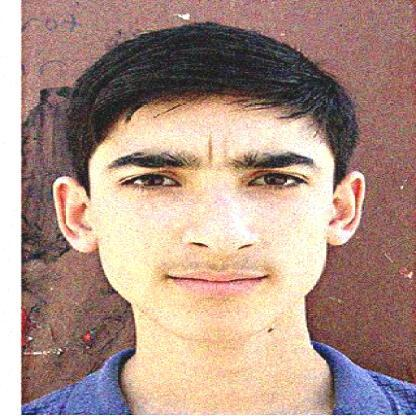without_mask: (94, 135, 334, 338)
